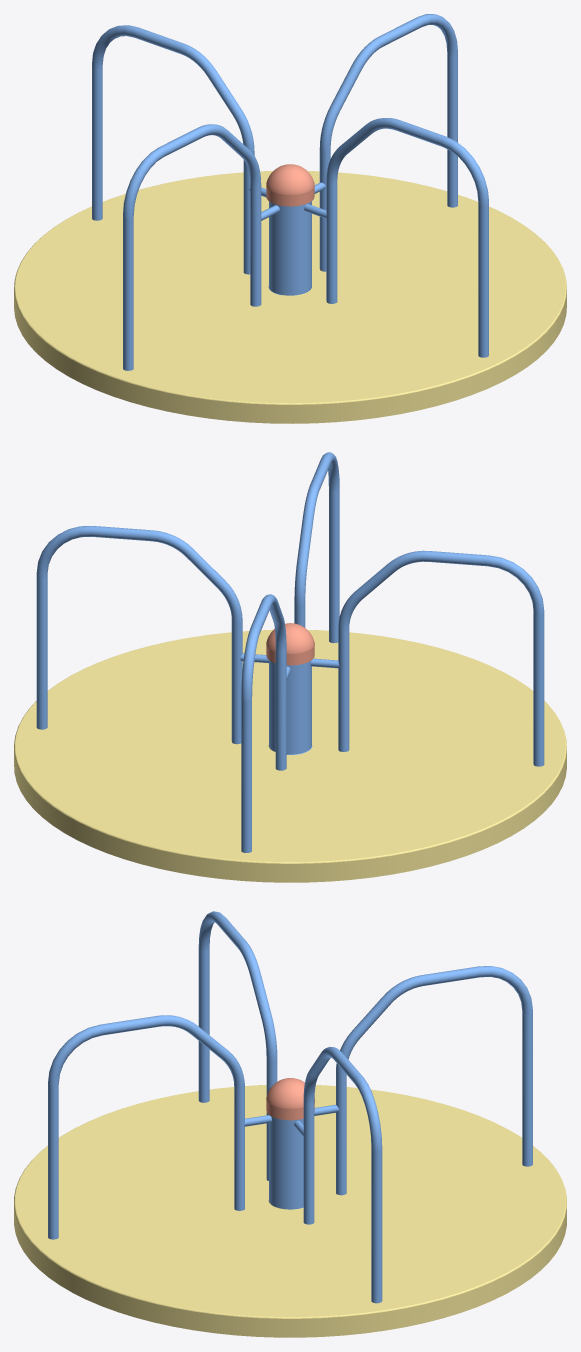
The model's file is spin.fbx.
3 views of the same model, one above another, from view 1: azimuth 30°, elevation 25°; view 2: azimuth 150°, elevation 25°; view 3: azimuth 270°, elevation 25° (orthographic).
Parts seen in each view (by area): view 1: Merry_Go_Round_01_, Merry_Go_Round_01_.001, Merry_Go_Round_01_.002; view 2: Merry_Go_Round_01_, Merry_Go_Round_01_.001, Merry_Go_Round_01_.002; view 3: Merry_Go_Round_01_, Merry_Go_Round_01_.001, Merry_Go_Round_01_.002.
Part boxes in pixels (x1,y1,x2,y2): Merry_Go_Round_01_: (14,171,566,423); Merry_Go_Round_01_.001: (92,14,488,370); Merry_Go_Round_01_.002: (266,164,314,206); Merry_Go_Round_01_: (14,629,566,882); Merry_Go_Round_01_.001: (36,452,544,852); Merry_Go_Round_01_.002: (266,623,314,665); Merry_Go_Round_01_: (14,1082,566,1337); Merry_Go_Round_01_.001: (48,911,532,1303); Merry_Go_Round_01_.002: (266,1078,314,1120).
Size of the model in its own units: 4966 by 2341 by 4966.
